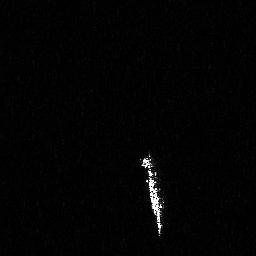ship: (137, 149, 169, 237)
